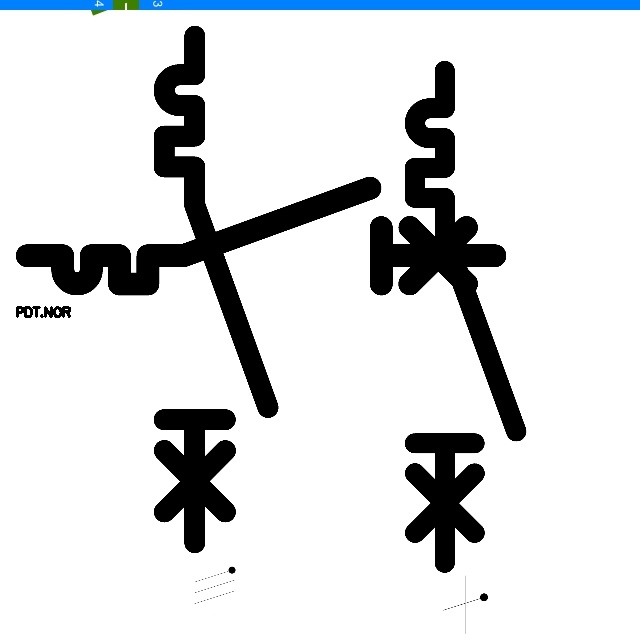interruptor_termomagnetico: (151, 23, 281, 556), (402, 58, 528, 575), (15, 176, 506, 296)
